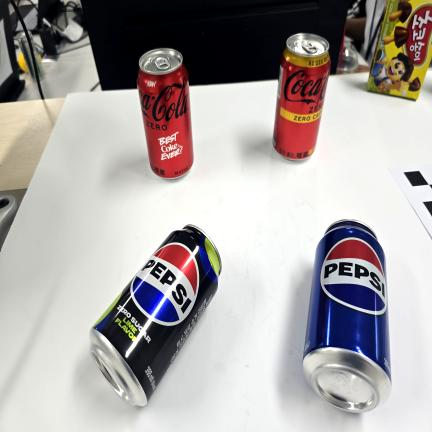can_coke_decaf: (272, 33, 330, 161)
can_pepsi: (303, 219, 391, 412)
can_pepsi_zero: (90, 225, 221, 406), (137, 48, 193, 179)
